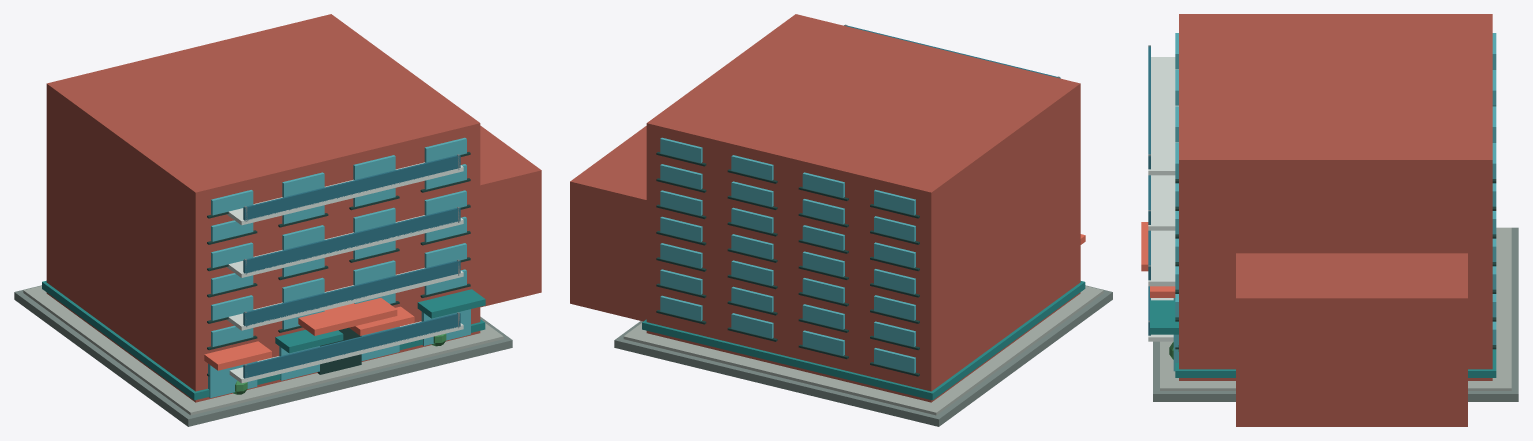
File: mixed_use_lv2.glb
3 views of the same model, side by side, from view 1: azimuth 30°, elevation 25°; view 2: azimuth 150°, elevation 25°; view 3: azimuth 270°, elevation 25° (orthographic). The views are drawn at different scales.
Visible parts, largest first — view 1: brick, glass, glassDark, concrete, pavement, white, teal, coral, dark; view 2: brick, glass, concrete, pavement, dark, teal; view 3: brick, white, concrete, pavement, glass, teal, glassDark, coral.
Part boxes in pixels (bbox=[...]): brick: bbox=[46, 14, 541, 402]; glass: bbox=[208, 137, 470, 397]; glassDark: bbox=[243, 155, 460, 378]; concrete: bbox=[23, 286, 503, 415]; pavement: bbox=[14, 285, 512, 426]; white: bbox=[227, 162, 463, 383]; teal: bbox=[42, 280, 485, 400]; coral: bbox=[204, 298, 414, 370]; dark: bbox=[207, 152, 470, 376]; brick: bbox=[570, 14, 1080, 402]; glass: bbox=[660, 137, 915, 373]; concrete: bbox=[623, 286, 1103, 415]; pavement: bbox=[614, 285, 1112, 426]; dark: bbox=[656, 152, 919, 376]; teal: bbox=[642, 281, 1085, 400]; brick: bbox=[1179, 14, 1492, 426]; white: bbox=[1148, 57, 1178, 341]; concrete: bbox=[1160, 227, 1511, 390]; pavement: bbox=[1153, 227, 1518, 401]; glass: bbox=[1173, 33, 1496, 371]; teal: bbox=[1150, 300, 1496, 377]; glassDark: bbox=[1148, 46, 1150, 335]; coral: bbox=[1141, 222, 1175, 297].
Bounding box in the file's own units: 11.87 × 6.36 × 9.39.
